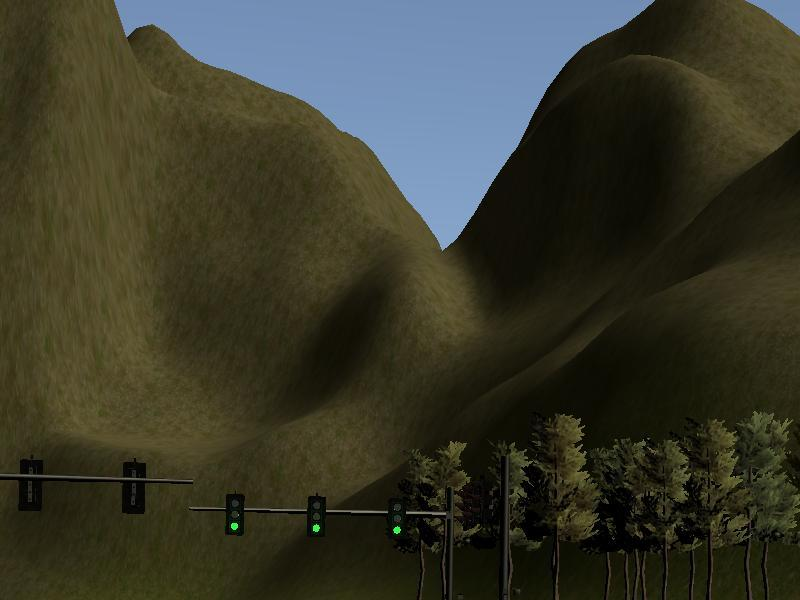Green: (387, 501, 406, 539), (226, 495, 244, 535), (309, 498, 324, 538)
